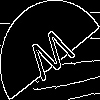W: (25, 25, 81, 90)
